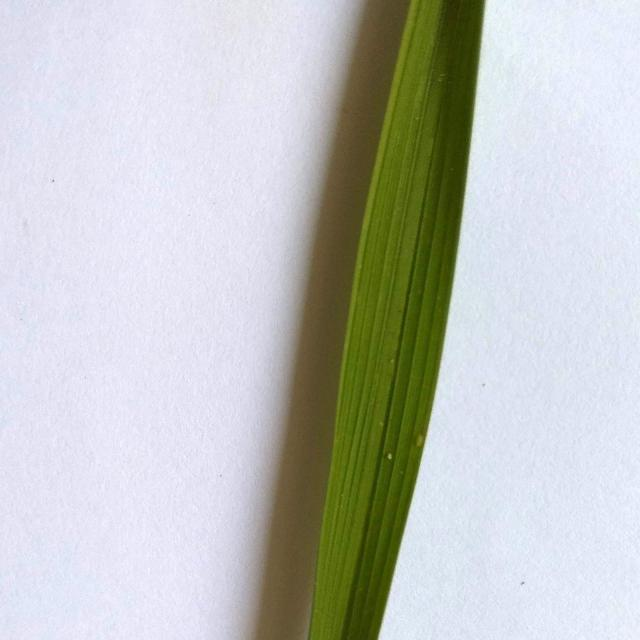healthy: (270, 0, 484, 640)
